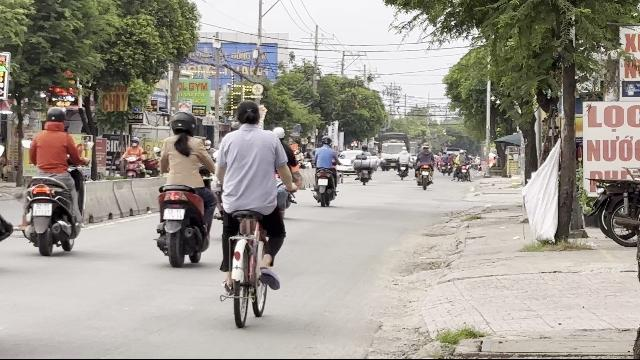helmet: (168, 110, 196, 136), (44, 106, 66, 130)
licenseplate: (164, 208, 184, 220), (33, 204, 51, 217)
motorcyclist: (17, 105, 87, 256), (152, 109, 216, 265)
